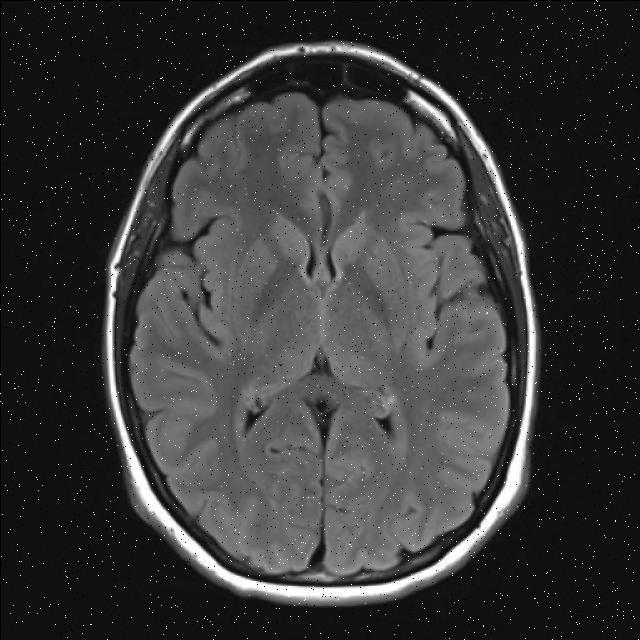No_Tumor: (106, 41, 538, 604)
